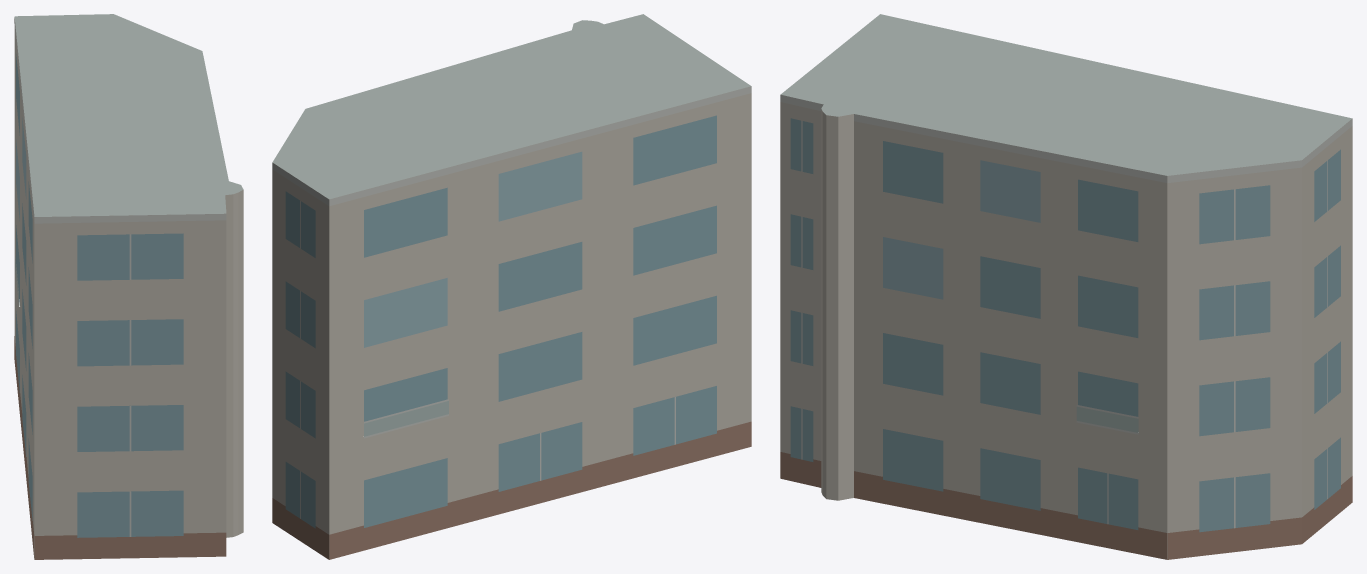
File: survey-upis-32910352.glb
3 views of the same model, side by side, from view 1: azimuth 30°, elevation 25°; view 2: azimuth 150°, elevation 25°; view 3: azimuth 270°, elevation 25° (orthographic). The views are drawn at different scales.
Visible parts, largest first — view 1: survey-upis-32910352.tmp; view 2: survey-upis-32910352.tmp; view 3: survey-upis-32910352.tmp.
Boxes of the visible parts, x1,y1,x2,y2 form: survey-upis-32910352.tmp: (14, 14, 243, 559); survey-upis-32910352.tmp: (272, 14, 751, 559); survey-upis-32910352.tmp: (780, 14, 1352, 559).
Size of the model in its own units: 11.58 by 12.8 by 17.3.
